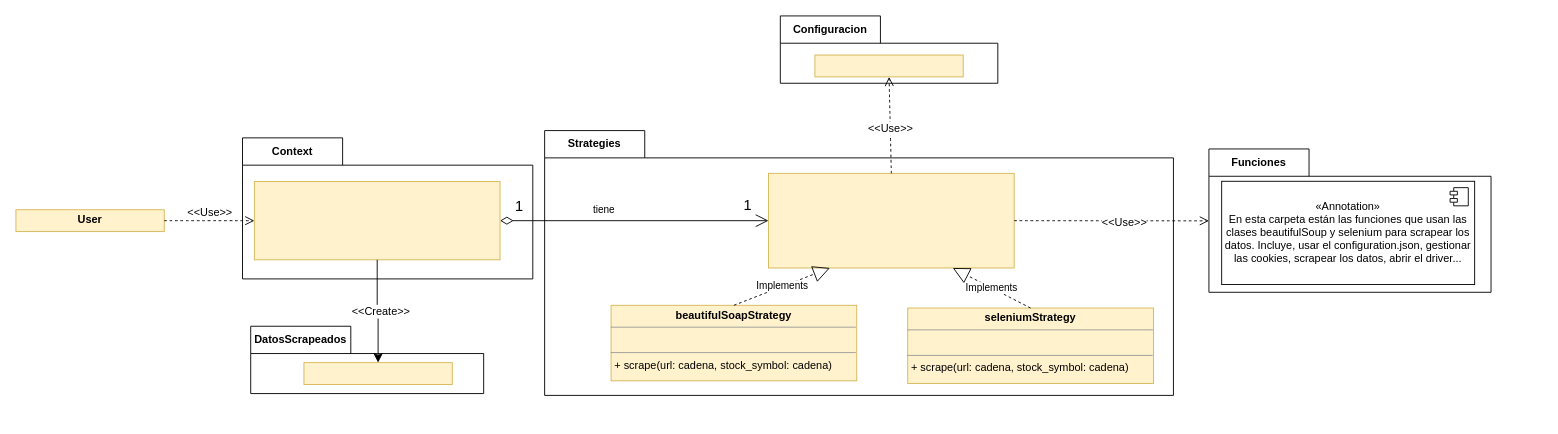
This 1558x434 diagram has some shape labels left out. Each missing label, with the centre of its shape:
<<interface>> ScrapeStrategy + scrape(url: cadena, stock_symbol: cadena ): the point at 891,220
Configuration.json: the point at 888,65
Context # strategy: scrapeStrategy + scrape(url: cadena, stock_symbol: cadena ): the point at 376,220
datos_scrapeados.json: the point at 377,373
